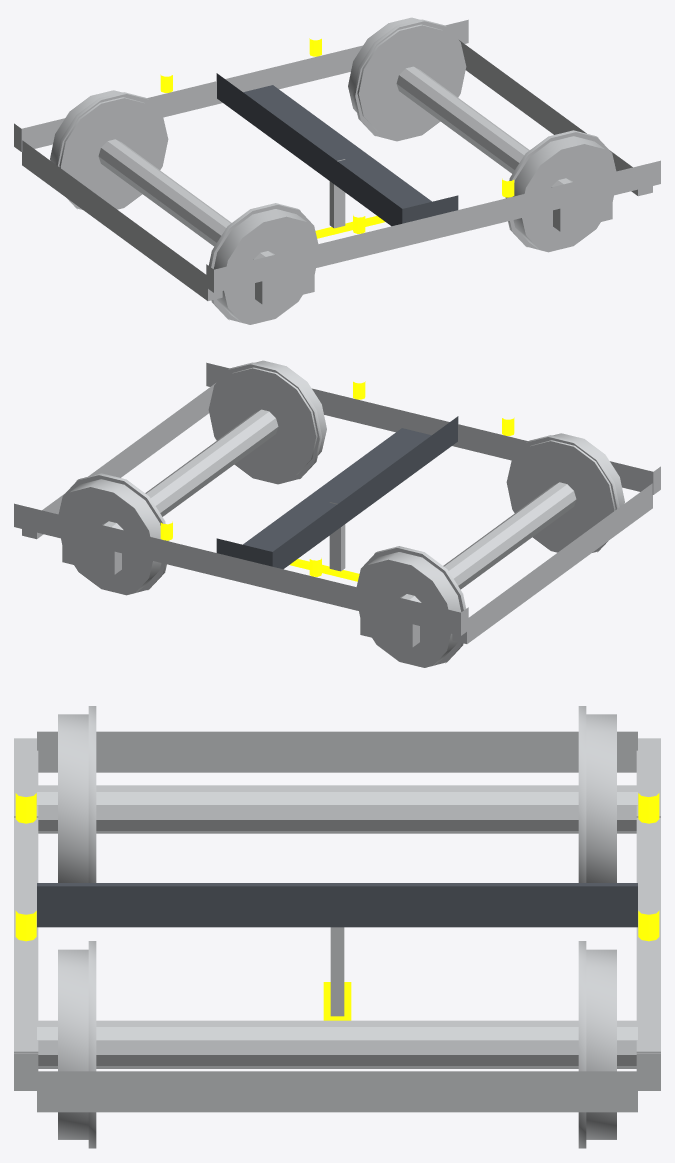
Rendered from ext_tram_bogie_04.glb.
3 renders of one model, top to bottom at view 1: azimuth 30°, elevation 25°; view 2: azimuth 150°, elevation 25°; view 3: azimuth 270°, elevation 25°, orthographic. The views are drawn at different scales.
Visible parts, largest first — view 1: Wheelset_2, Side_Frames, Wheelset_1, Bolster, End_Beams, Springs, Collector_Hanger; view 2: Wheelset_2, Side_Frames, Wheelset_1, Bolster, End_Beams, Springs, Collector_Hanger; view 3: End_Beams, Wheelset_1, Wheelset_2, Bolster, Side_Frames, Springs, Collector_Hanger, Collector_Shoe.
Part boxes in pixels (x1,y1,x2,y2): Wheelset_2: (348, 17, 616, 252); Side_Frames: (14, 19, 660, 304); Wheelset_1: (50, 90, 318, 324); Bolster: (216, 73, 458, 226); End_Beams: (22, 40, 652, 300); Springs: (160, 38, 514, 233); Collector_Hanger: (329, 159, 345, 228); Wheelset_2: (58, 360, 326, 595); Side_Frames: (14, 362, 660, 647); Wheelset_1: (356, 433, 624, 667); Bolster: (216, 416, 458, 569); End_Beams: (22, 383, 652, 643); Springs: (160, 381, 514, 576); Collector_Hanger: (329, 502, 345, 571); End_Beams: (37, 731, 637, 1112); Wheelset_1: (37, 706, 637, 882); Wheelset_2: (37, 941, 637, 1148); Bolster: (37, 883, 637, 927); Side_Frames: (14, 738, 660, 1090); Springs: (15, 793, 659, 941); Collector_Hanger: (330, 927, 344, 1016); Collector_Shoe: (323, 982, 351, 1020).
Bounding box in the file's own units: 2.4 × 0.5947 × 1.86.
